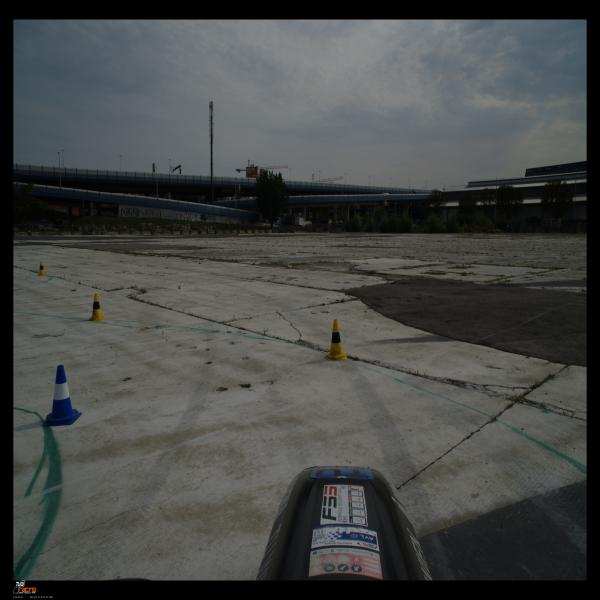blue_cone: (42, 365, 82, 426)
yellow_cone: (326, 320, 347, 360), (88, 294, 106, 321), (38, 261, 46, 276)
